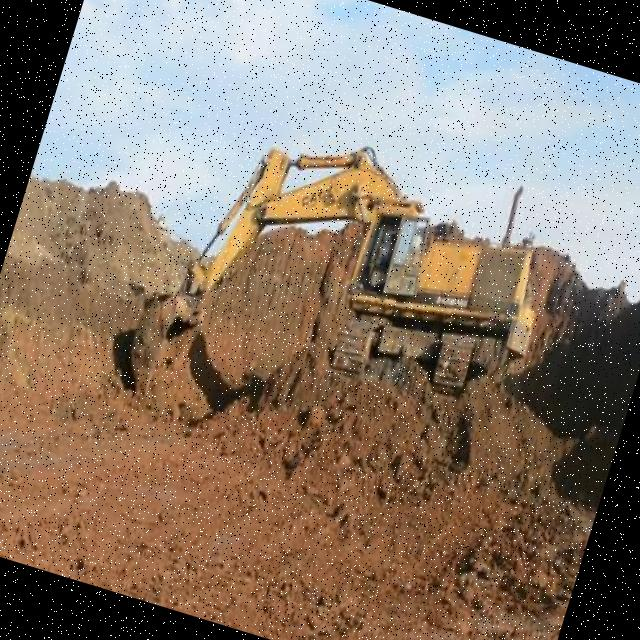Excavator: (114, 86, 574, 502)
